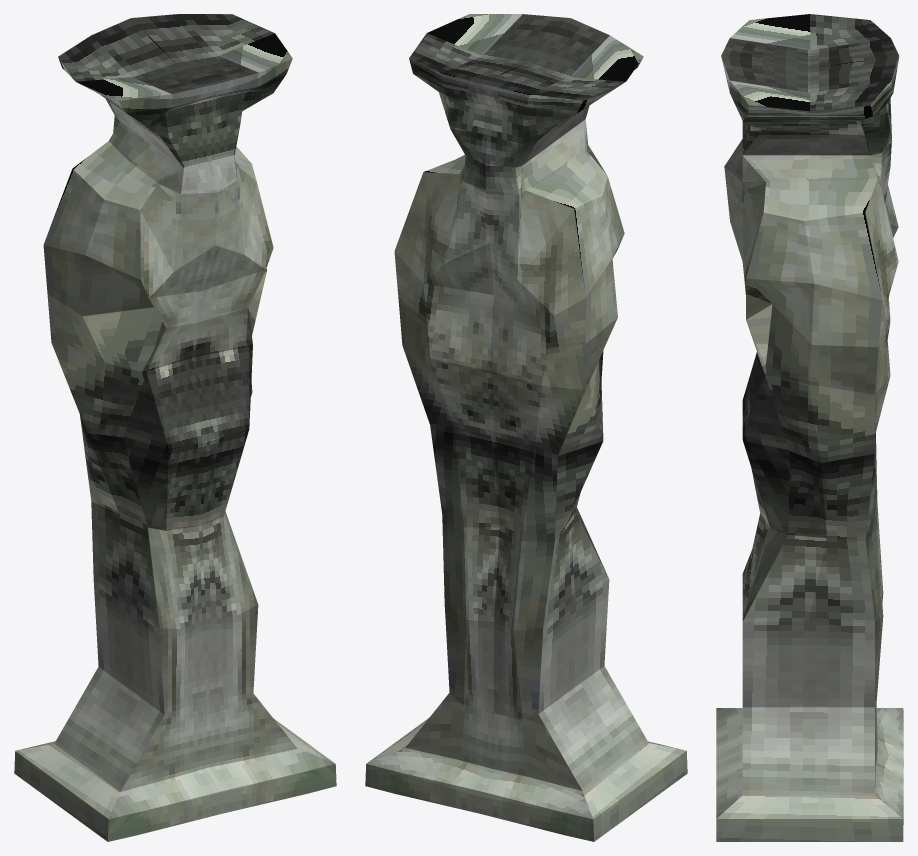
File: satyr-statue.glb
3 renders of one model, left to right at view 1: azimuth 30°, elevation 25°; view 2: azimuth 150°, elevation 25°; view 3: azimuth 270°, elevation 25°, orthographic.
Visible parts, largest first — view 1: satyr-col; view 2: satyr-col; view 3: satyr-col.
Boxes of the visible parts, x1,y1,x2,y2 form: satyr-col: (14,14,336,841); satyr-col: (365,14,687,841); satyr-col: (716,14,903,841).
Size of the model in its own units: 1.64 by 5.01 by 1.17.
1 material, 1 textured.
